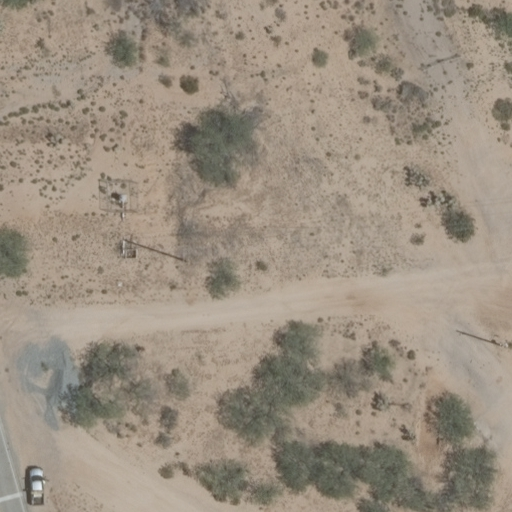DT: (167, 248, 193, 270)
